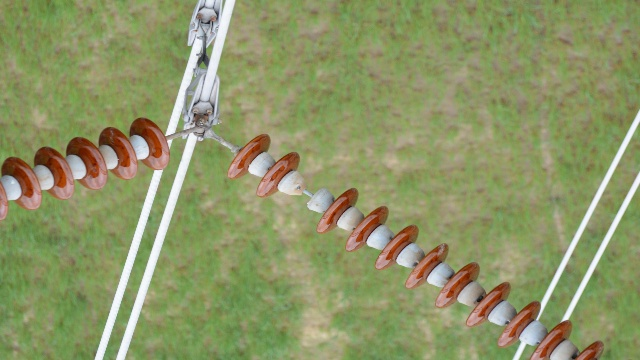broken_local: (306, 183, 324, 211)
insulator_unspecified: (227, 134, 605, 359), (0, 116, 171, 216)
